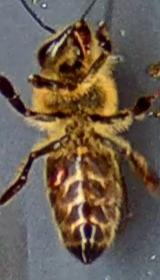varroa_mite: (40, 158, 66, 192)
